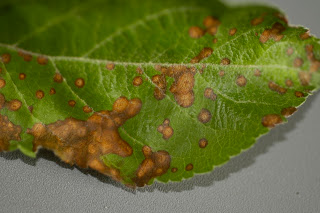unhealthy: (6, 13, 306, 202)
